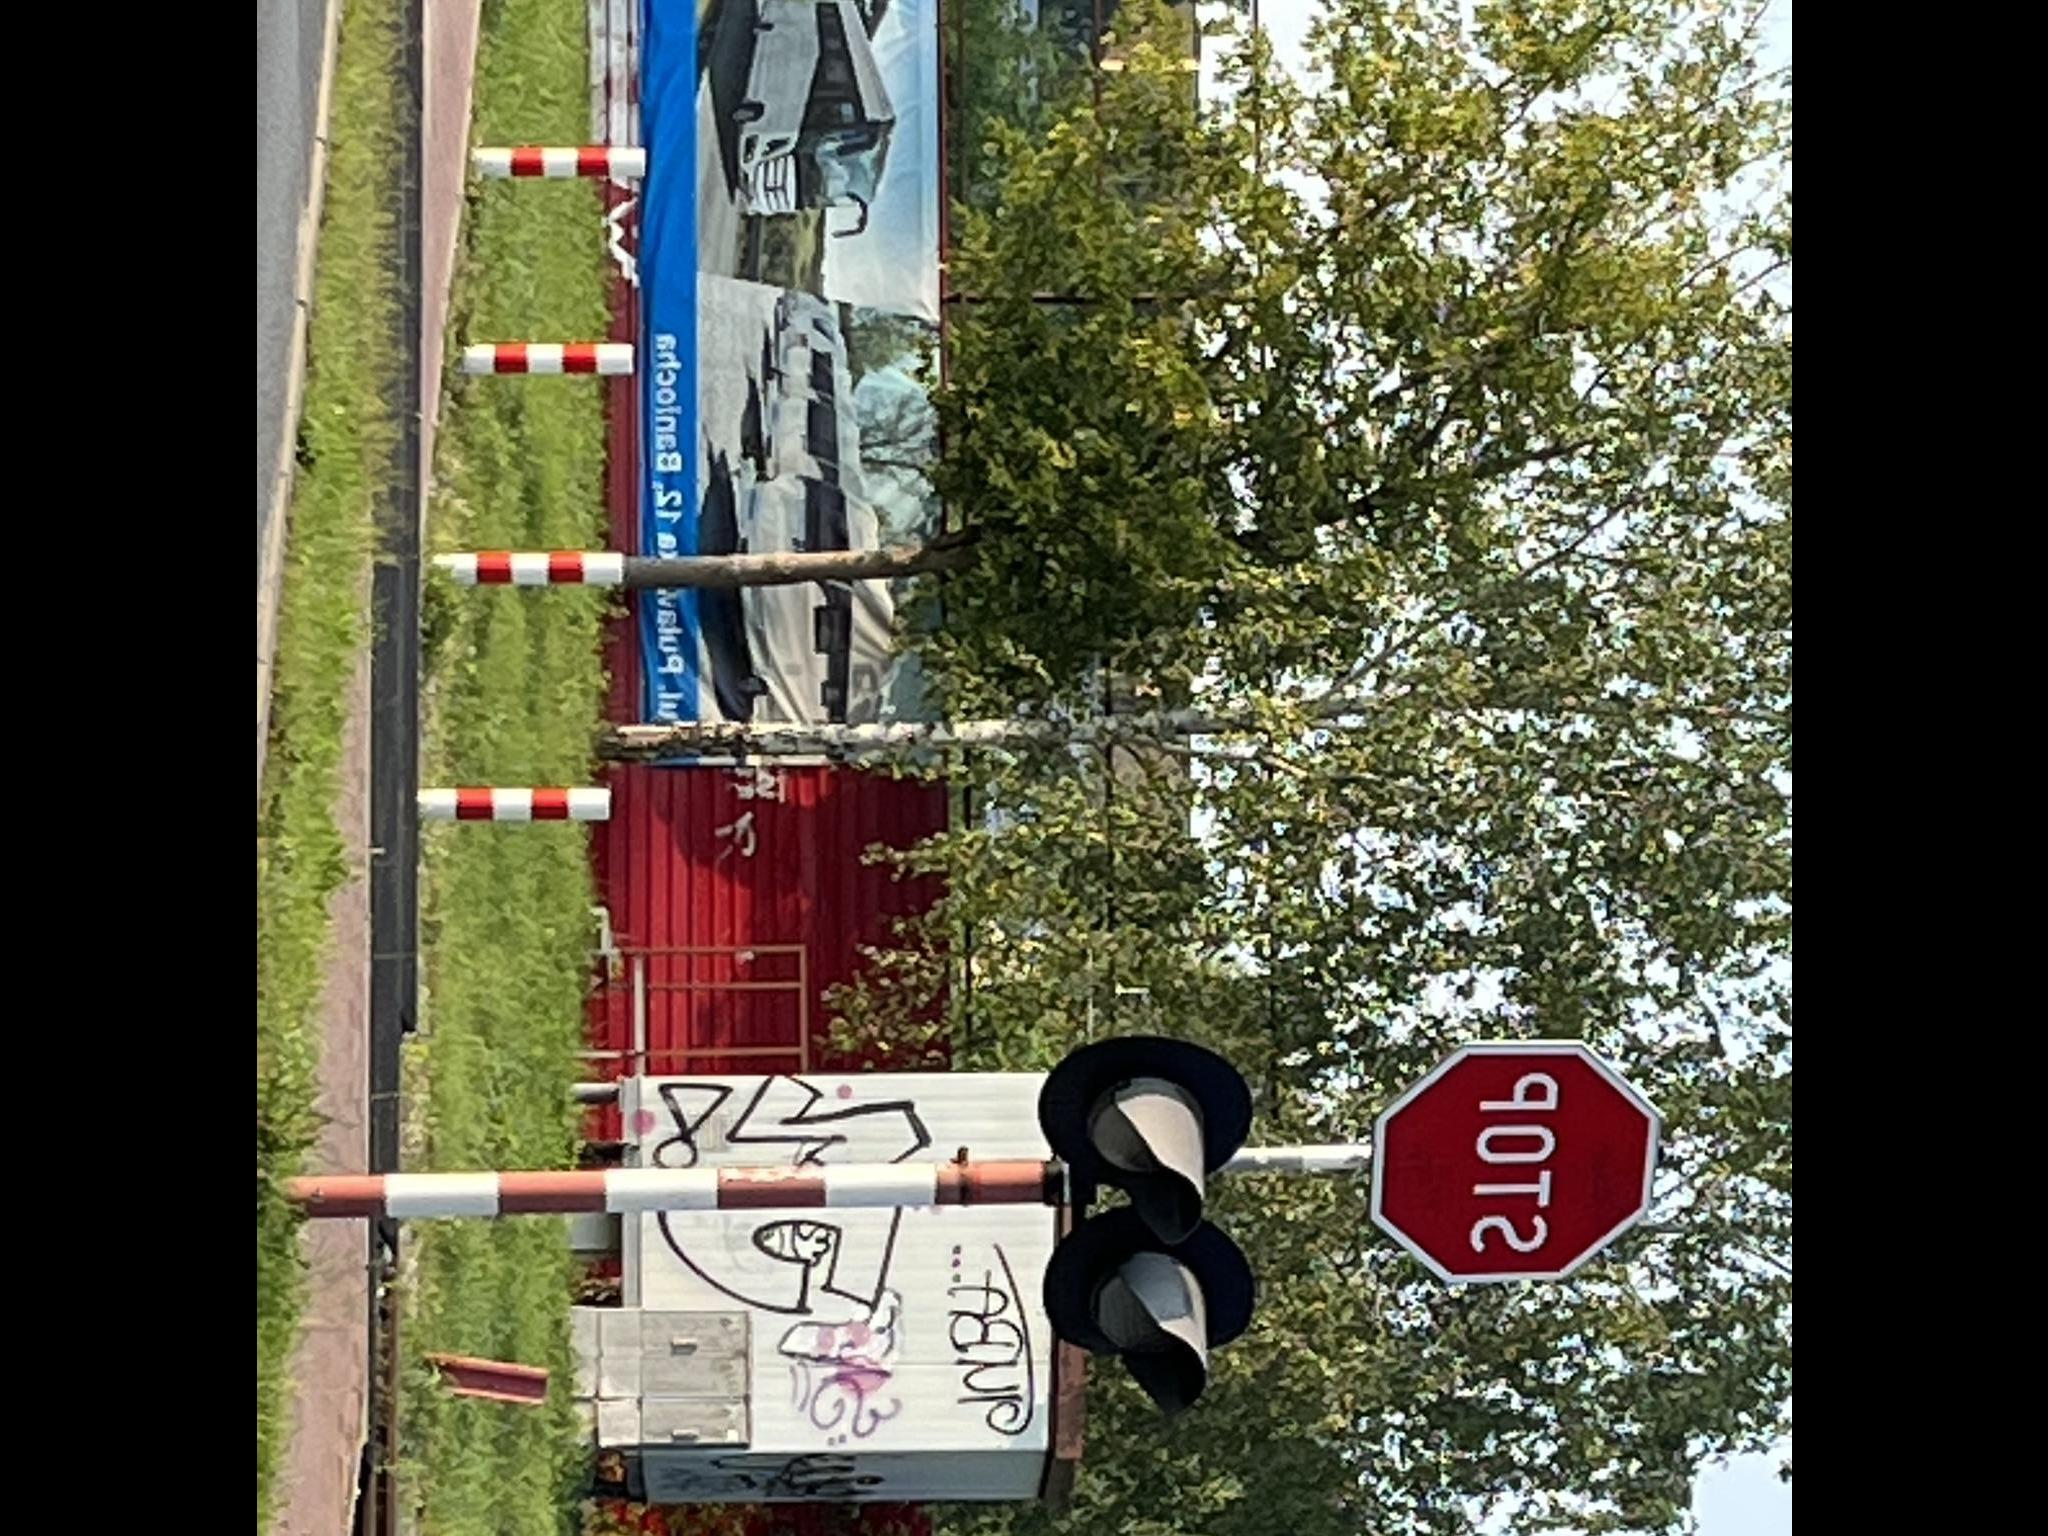prohibitory: (1369, 1039, 1659, 1284)
